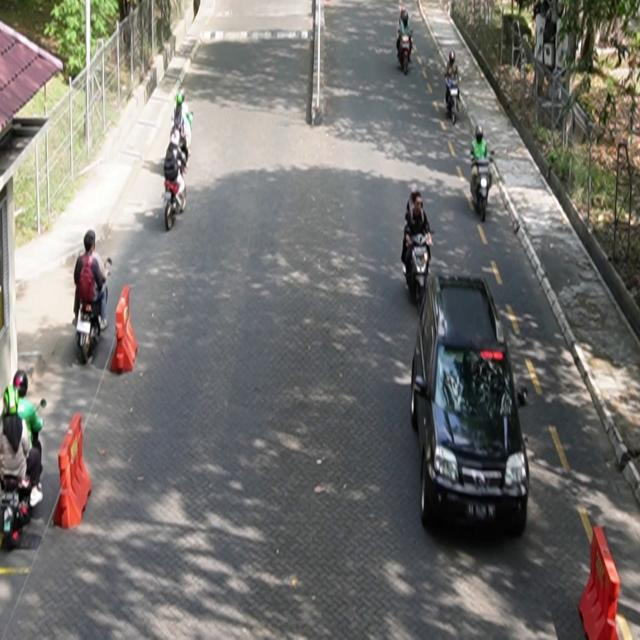car: (411, 273, 531, 538)
